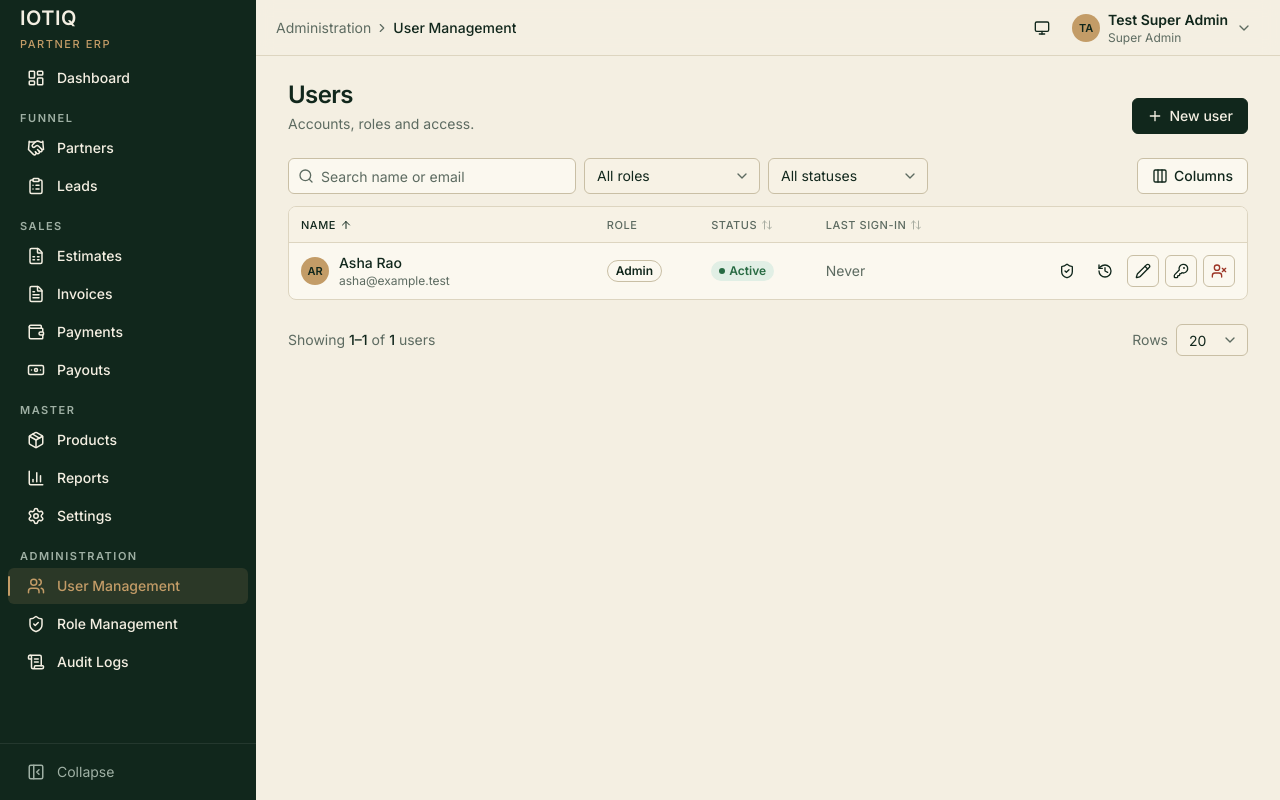
Scenario: user management › asks for confirmation before deactivating
Later steps or results of the test are not shown.
Click the button named "Deactivate" at (1219, 271), box [1203,255,1235,287]
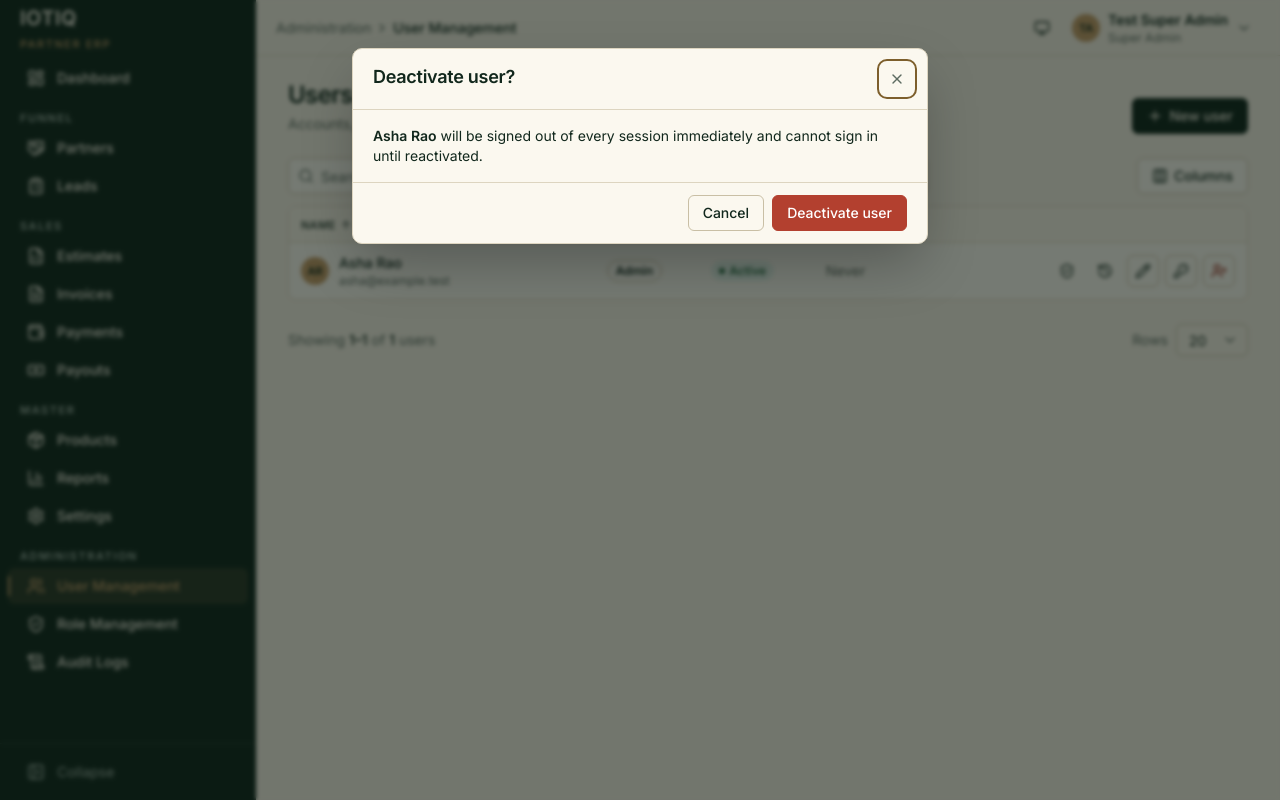
Now the text "signed out of every session" is shown, box [373,127,878,164]
